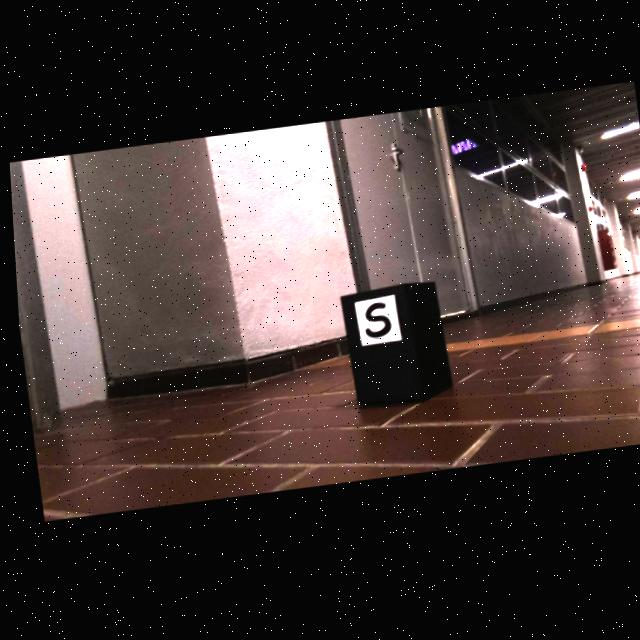S: (361, 307, 387, 342)
